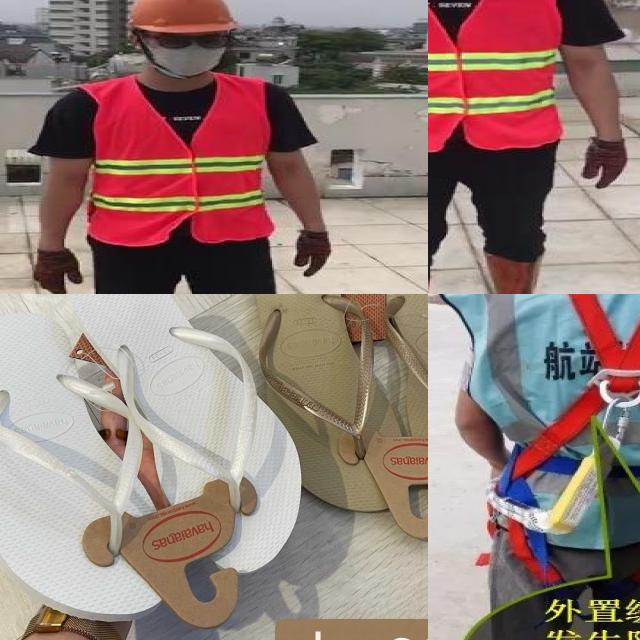Harness: (487, 294, 640, 548)
Sandals: (0, 294, 333, 637), (240, 294, 428, 537)
boots: (479, 250, 561, 294)
face_mask: (146, 29, 233, 74)
glasses: (148, 28, 235, 54)
hand_glove: (32, 249, 82, 294), (585, 138, 627, 188), (297, 229, 332, 277)
head_helmet: (125, 0, 239, 31)
person: (23, 0, 349, 294), (428, 0, 640, 294)
vest: (86, 75, 276, 245), (428, 0, 567, 146)
